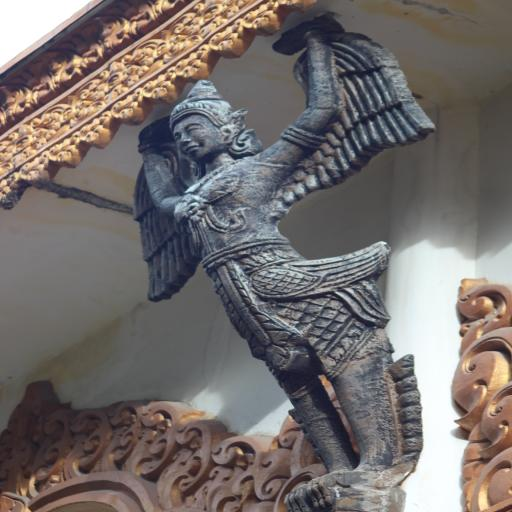than: (136, 62, 427, 510)
